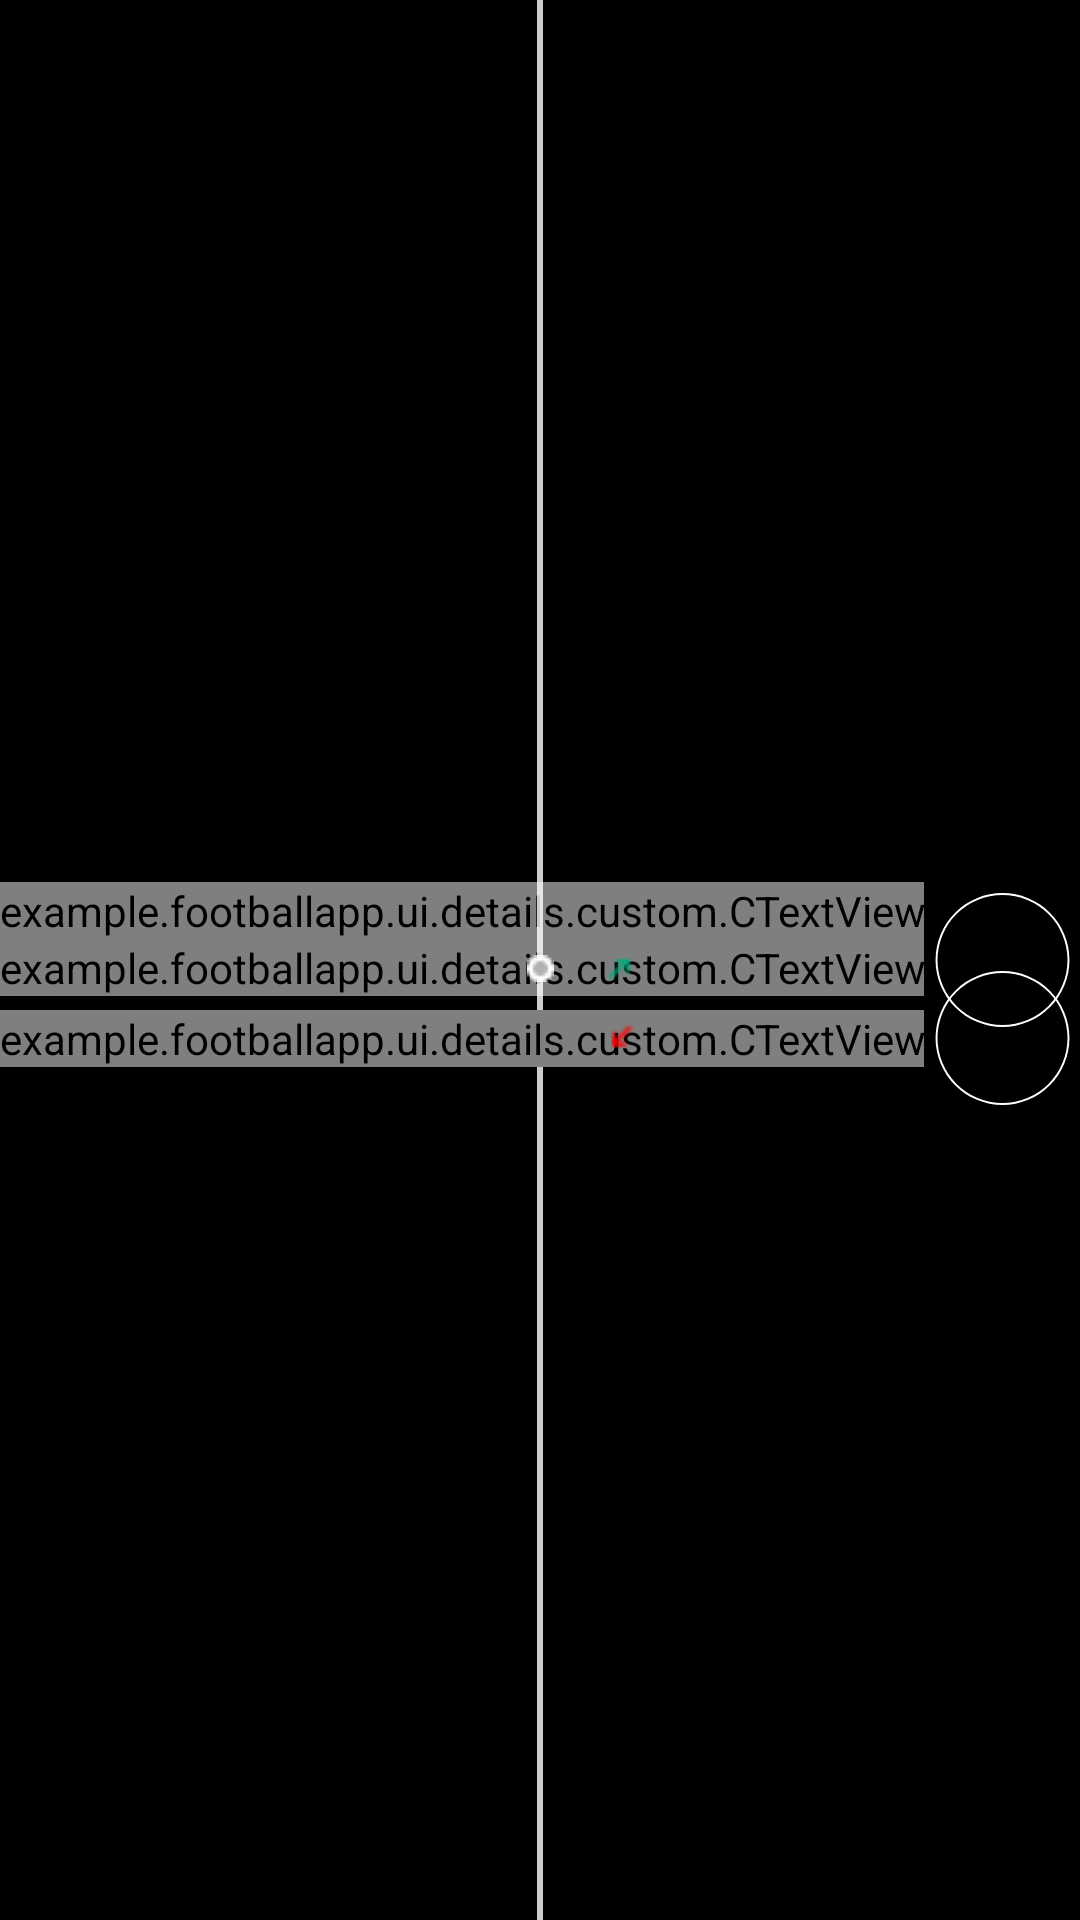

Screen size 1080px x 1920px. Icon name, then its center in pixels as (x,y):
player action dot: (540,968)
